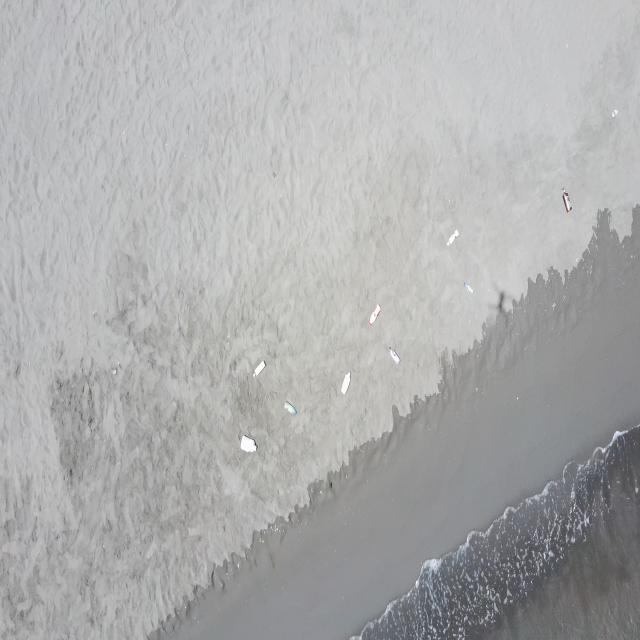plastic-bottle: (240, 434, 259, 454), (340, 370, 352, 400), (561, 186, 574, 213), (369, 304, 382, 327), (446, 229, 460, 248), (254, 359, 267, 376), (283, 402, 298, 416), (389, 348, 401, 364), (610, 108, 619, 120), (464, 283, 473, 294)
